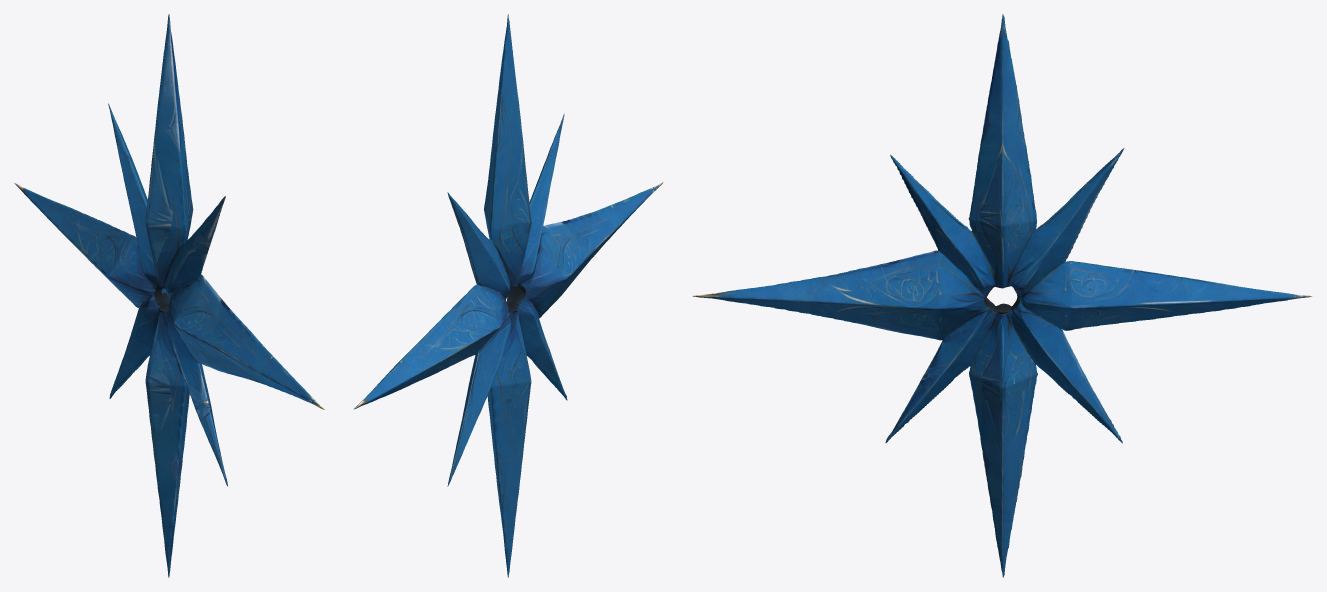
File: Celestial Starburst 0604191449 texture.glb
The picture shows the model from 3 angles, left to right: view 1: azimuth 30°, elevation 25°; view 2: azimuth 150°, elevation 25°; view 3: azimuth 270°, elevation 25°; orthographic projection.
Bounding box in the file's own units: 0.2004 × 1.99 × 1.99.
1 material, 1 textured.
